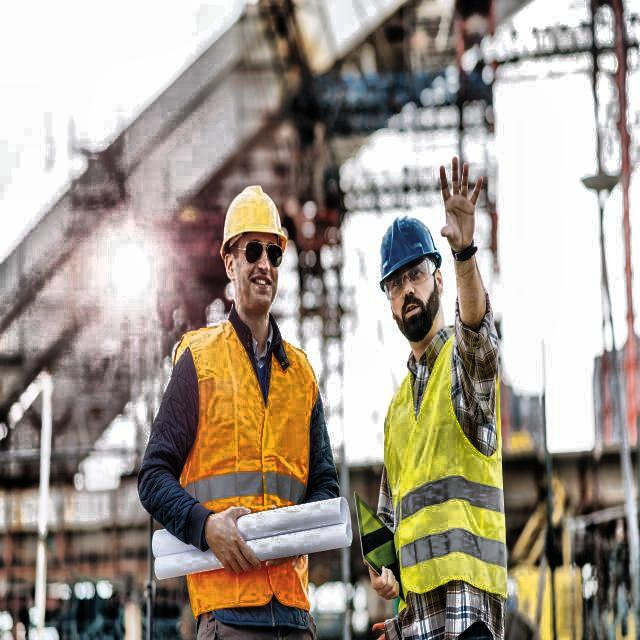person: (140, 182, 368, 640), (361, 182, 514, 640)
